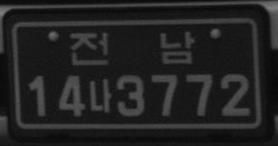1: (27, 75, 49, 117)
2: (219, 72, 252, 117)
3: (116, 74, 145, 117)
4: (56, 74, 86, 118)
7: (185, 73, 214, 117), (150, 72, 178, 117)
나: (88, 78, 113, 114)
전남_D: (69, 30, 195, 65)
